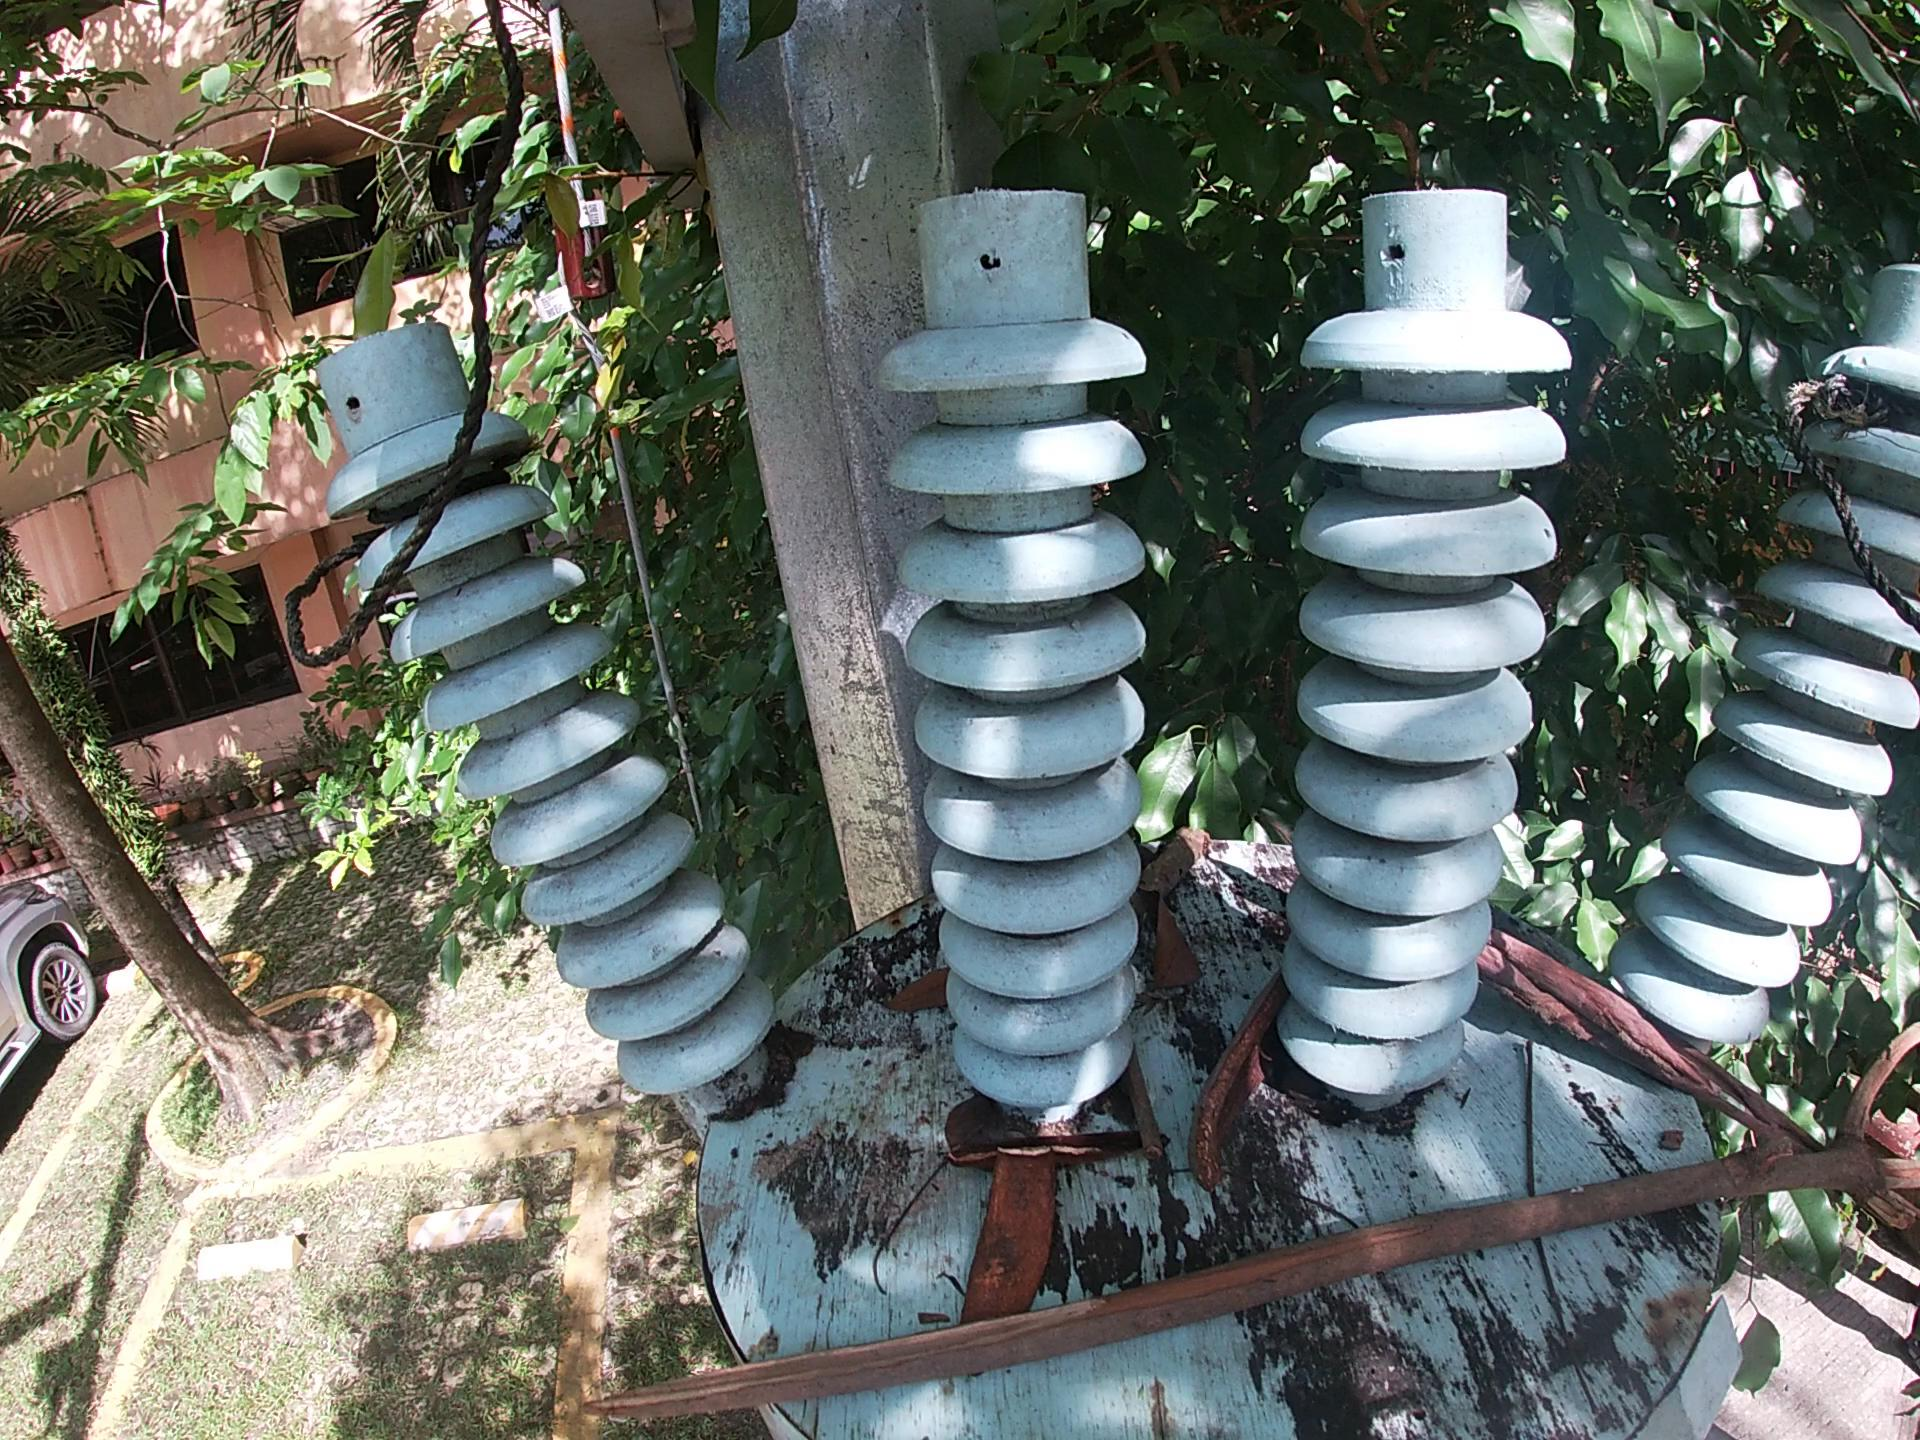leaf: (1155, 914, 1194, 1000), (865, 979, 946, 1019), (952, 1085, 981, 1177)
mahogany fruit: (942, 1156, 1092, 1322), (1191, 967, 1297, 1193)
tree branch: (559, 1021, 1920, 1429), (1485, 926, 1810, 1153), (1522, 1035, 1618, 1425), (851, 1159, 943, 1311), (1237, 1175, 1361, 1246), (1138, 821, 1202, 903), (1128, 1059, 1166, 1178), (968, 1134, 1126, 1159)
